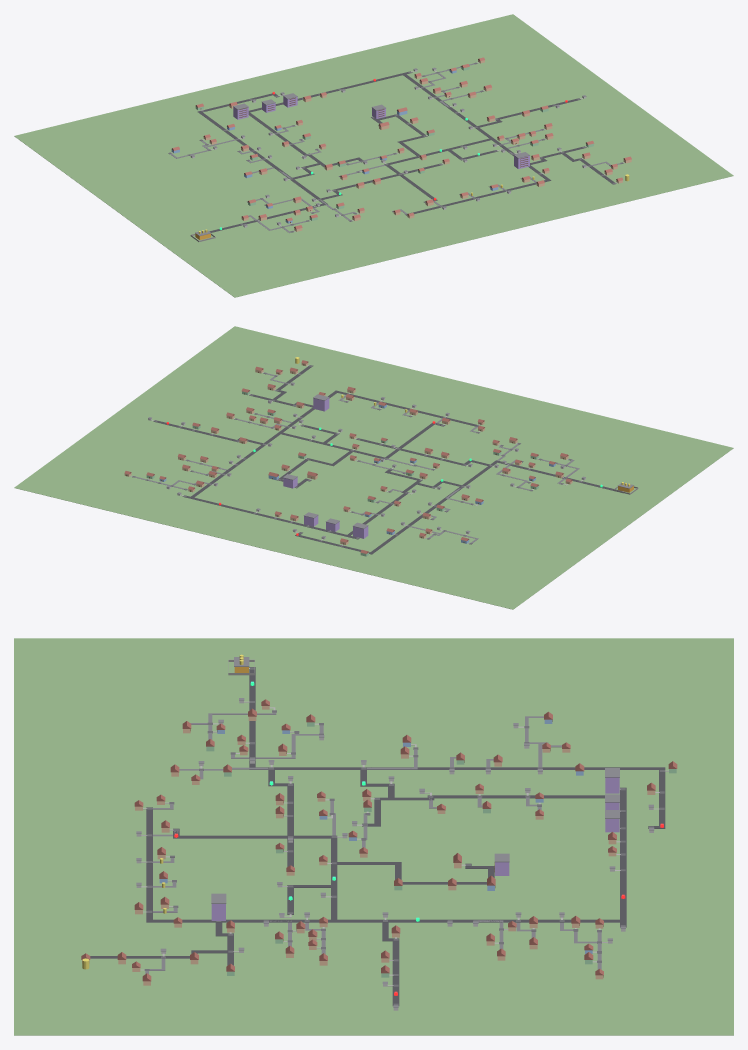
File: ieee123_city.glb
The picture shows the model from 3 angles, top to bottom: view 1: azimuth 30°, elevation 25°; view 2: azimuth 150°, elevation 25°; view 3: azimuth 270°, elevation 25°; orthographic projection. The views are drawn at different scales.
Visible parts, largest first — view 1: Ground; view 2: Ground; view 3: Ground.
Part boxes in pixels (x1,y1,x2,y2): Ground: [14, 14, 733, 297]; Ground: [14, 326, 733, 609]; Ground: [14, 638, 733, 1035].
Bounding box in the file's own units: 785 × 17.07 × 601.
